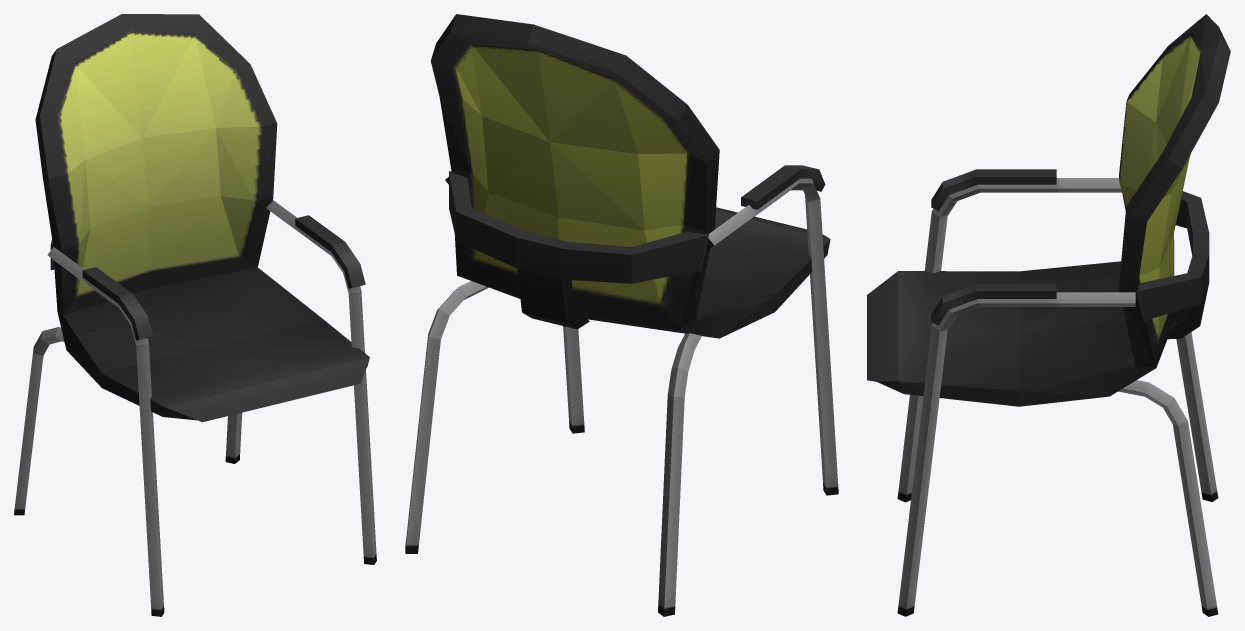
File: library_chair_01.obj
The picture shows the model from 3 angles, left to right: view 1: azimuth 30°, elevation 25°; view 2: azimuth 150°, elevation 25°; view 3: azimuth 270°, elevation 25°; orthographic projection. The views are drawn at different scales.
Bounding box in the file's own units: 140 × 275 × 175.
